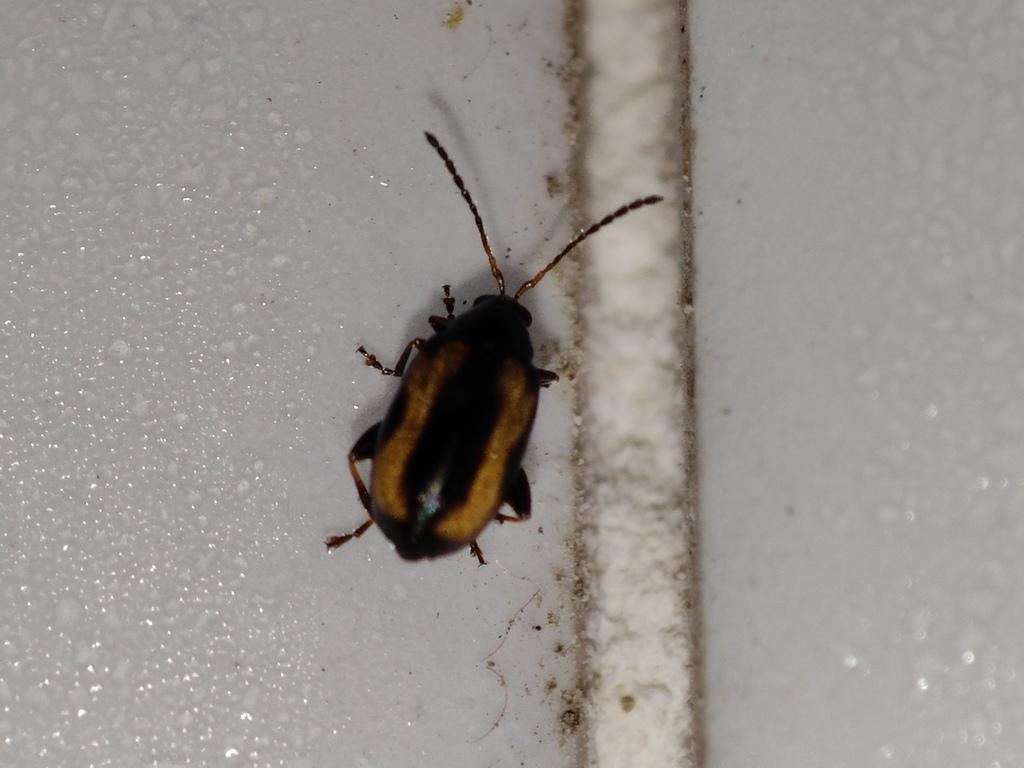flea_beetle: (261, 76, 688, 636)
